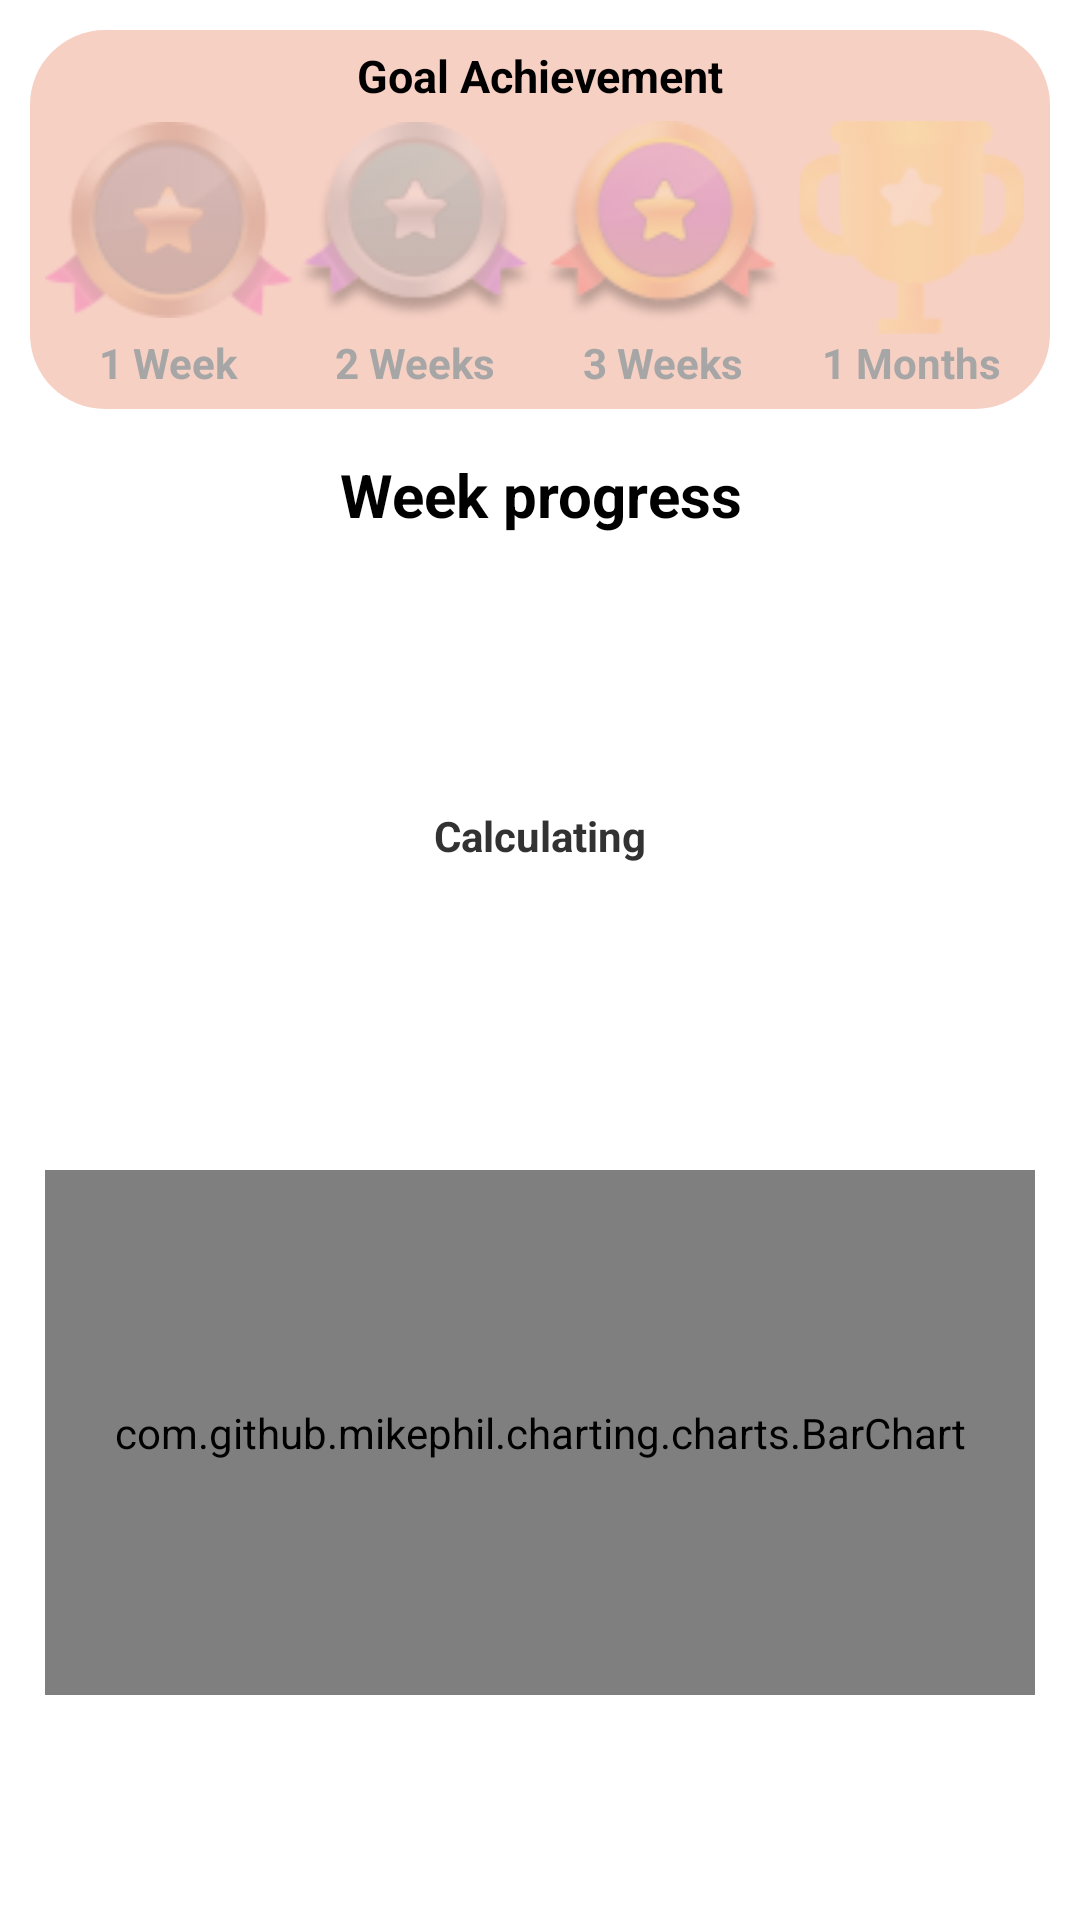

Where icons sit on this 1080px x 1920px app screen, as (x1, y1, x2, y2):
bronze: (47, 122, 289, 317)
gold: (552, 125, 772, 312)
silver: (307, 122, 525, 311)
trophy: (799, 121, 1024, 331)
